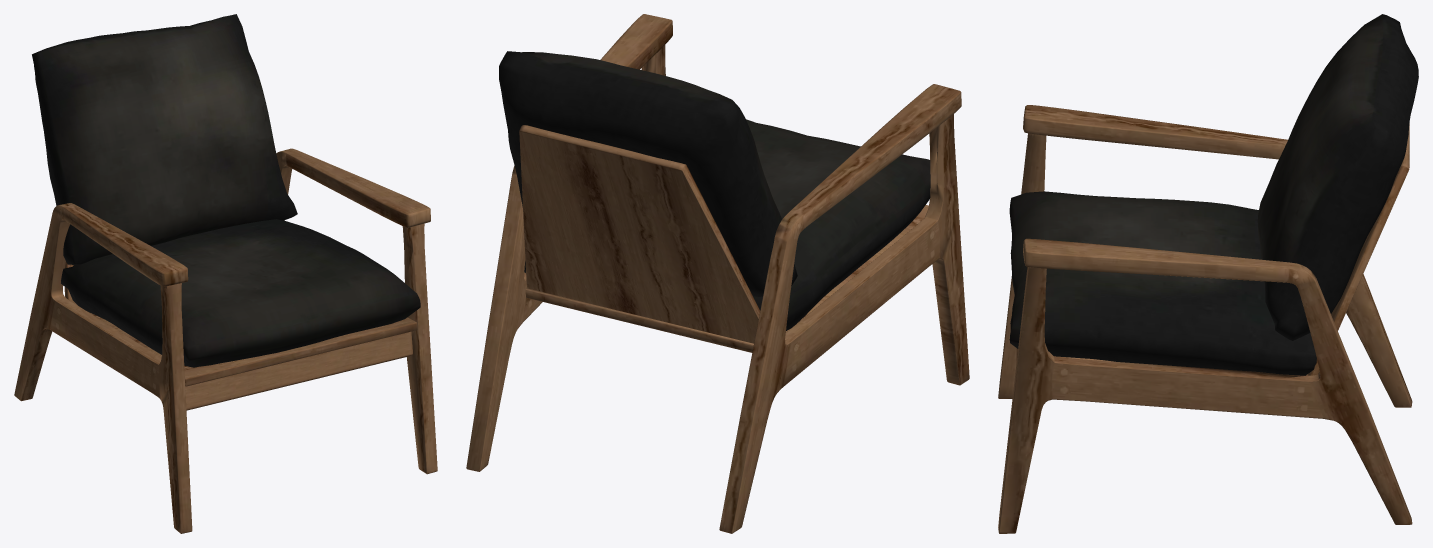
File: modern_arm_chair_01.glb
3 views of the same model, side by side, from view 1: azimuth 30°, elevation 25°; view 2: azimuth 150°, elevation 25°; view 3: azimuth 270°, elevation 25° (orthographic). The views are drawn at different scales.
Visible parts, largest first — view 1: modern_arm_chair_01; view 2: modern_arm_chair_01; view 3: modern_arm_chair_01.
Part boxes in pixels (box(x1,y1,x2,y2)): modern_arm_chair_01: box(14, 14, 437, 533); modern_arm_chair_01: box(466, 14, 969, 533); modern_arm_chair_01: box(998, 14, 1418, 533).
Size of the model in its own units: 0.8203 by 1.02 by 0.9866.
2 materials, 2 textured.
